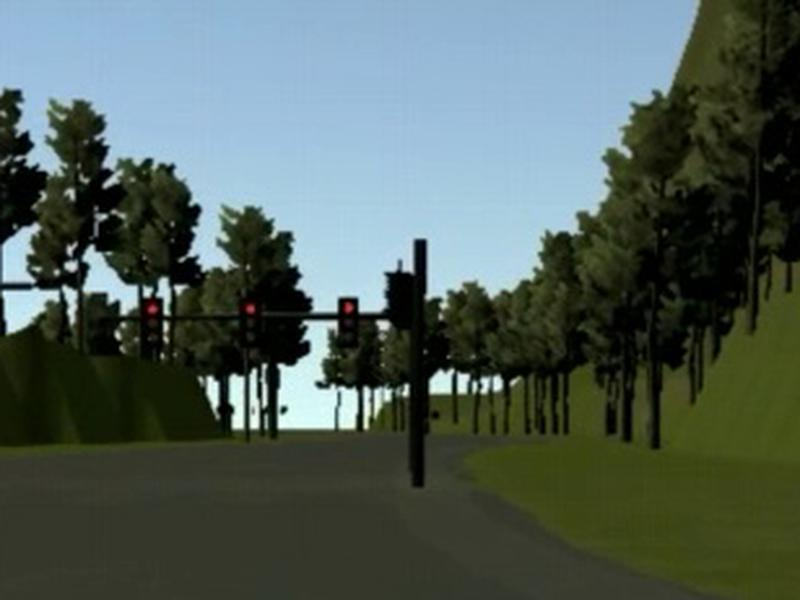Red: (141, 298, 162, 349), (239, 300, 258, 347), (339, 297, 357, 346)
